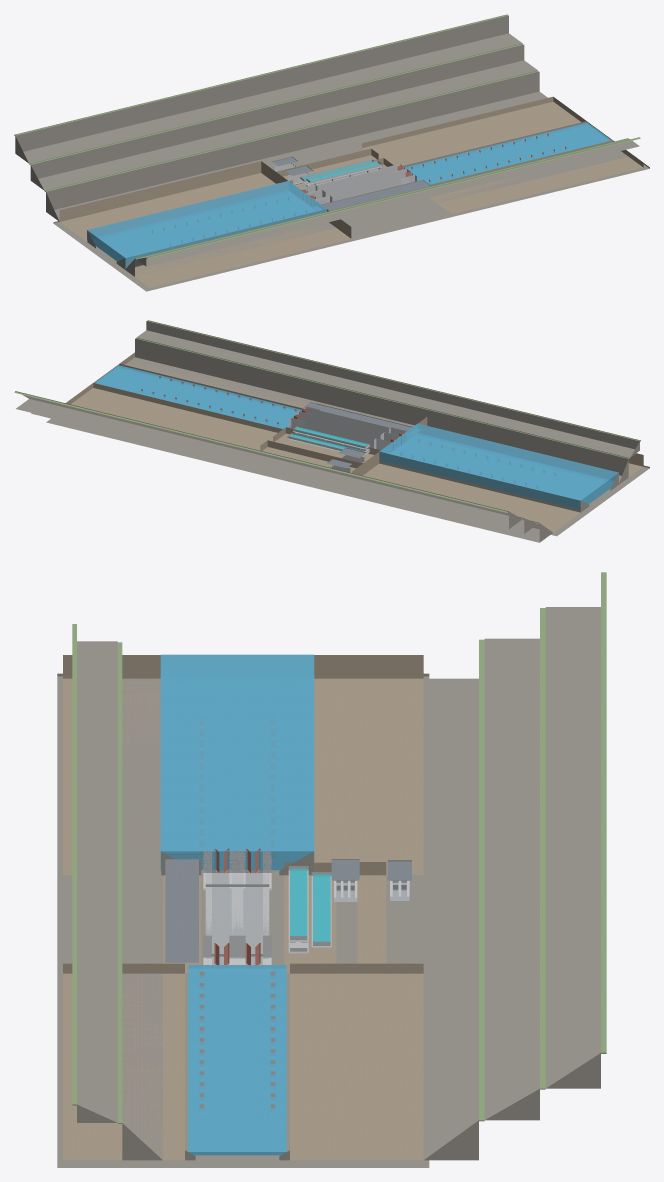
Rendered from madao-low.glb.
3 renders of one model, top to bottom at view 1: azimuth 30°, elevation 25°; view 2: azimuth 150°, elevation 25°; view 3: azimuth 270°, elevation 25°, orthographic. The views are drawn at different scales.
Visible parts, largest first — view 1: rock_terrain, earth_terrain, water_water, grass_terrain, concrete_structure, road_aux, earth_structure, concrete_pool, concreteLight_structure, poolWater_pool; view 2: rock_terrain, water_water, earth_terrain, grass_terrain, concrete_structure, earth_structure, road_aux, concrete_pool, poolWater_pool, concreteLight_structure; view 3: rock_terrain, earth_terrain, water_water, grass_terrain, road_aux, concreteDark_structure, earth_structure, concrete_structure, poolWater_pool, concreteLight_structure, concrete_pool, gate_gate.
Boxes of the visible parts, left/top/right/bottom form: rock_terrain: left=15, top=15, right=649, bottom=291; earth_terrain: left=59, top=96, right=643, bottom=287; water_water: left=87, top=122, right=611, bottom=267; grass_terrain: left=14, top=14, right=640, bottom=259; concrete_structure: left=150, top=133, right=566, bottom=246; road_aux: left=272, top=156, right=430, bottom=210; earth_structure: left=276, top=148, right=417, bottom=204; concrete_pool: left=299, top=159, right=382, bottom=186; concreteLight_structure: left=274, top=163, right=416, bottom=204; poolWater_pool: left=301, top=160, right=379, bottom=182; rock_terrain: left=16, top=321, right=649, bottom=542; water_water: left=94, top=365, right=618, bottom=509; earth_terrain: left=65, top=352, right=643, bottom=532; grass_terrain: left=14, top=320, right=640, bottom=524; concrete_structure: left=140, top=376, right=555, bottom=488; earth_structure: left=260, top=403, right=411, bottom=472; road_aux: left=302, top=402, right=420, bottom=468; concrete_pool: left=287, top=425, right=370, bottom=454; poolWater_pool: left=289, top=427, right=368, bottom=451; concreteLight_structure: left=289, top=406, right=406, bottom=472; rock_terrain: left=57, top=607, right=600, bottom=1167; earth_terrain: left=63, top=655, right=423, bottom=1160; water_water: left=160, top=654, right=314, bottom=1155; grass_terrain: left=72, top=572, right=606, bottom=1123; road_aux: left=165, top=854, right=411, bottom=962; concreteDark_structure: left=203, top=870, right=409, bottom=964; earth_structure: left=163, top=859, right=386, bottom=973; concrete_structure: left=199, top=719, right=275, bottom=1110; poolWater_pool: left=290, top=868, right=330, bottom=951; concreteLight_structure: left=203, top=851, right=409, bottom=964; concrete_pool: left=288, top=866, right=331, bottom=951; gate_gate: left=214, top=848, right=260, bottom=964.
Bounding box in the file's own units: 2000 × 209 × 945.
11 materials, 11 textured.
